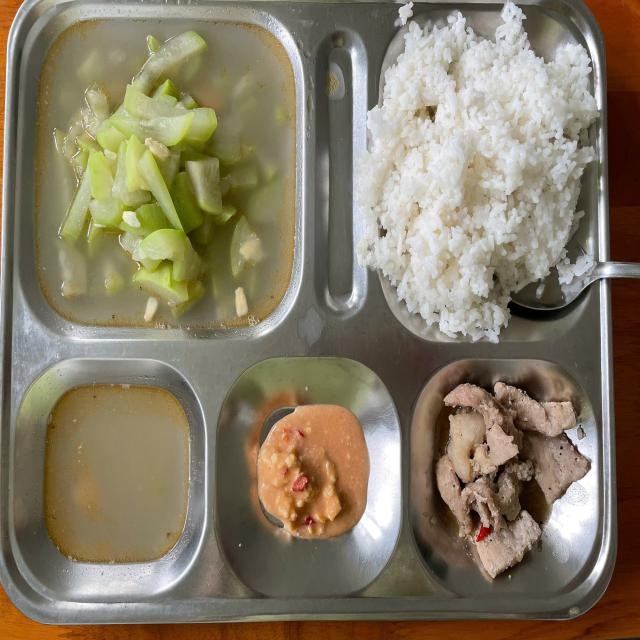canhbau: (37, 22, 293, 331)
salad: (381, 26, 586, 327)
thitkhogung: (438, 380, 578, 573)
